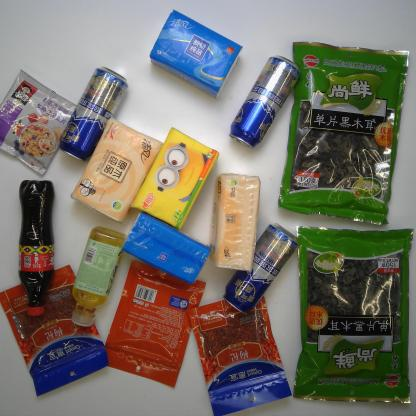Alcohol: (222, 221, 300, 316), (227, 54, 301, 149), (58, 66, 130, 162)
Dried Food: (277, 40, 410, 226), (292, 223, 415, 406)
Dried Fruit: (0, 264, 109, 398), (102, 259, 206, 388), (186, 292, 293, 415)
Drink: (70, 226, 128, 328), (16, 178, 56, 317)
Instant Drink: (0, 67, 78, 176)
Tissue: (69, 116, 164, 224), (130, 126, 221, 230), (148, 8, 243, 100), (122, 210, 212, 284), (208, 172, 261, 272)
